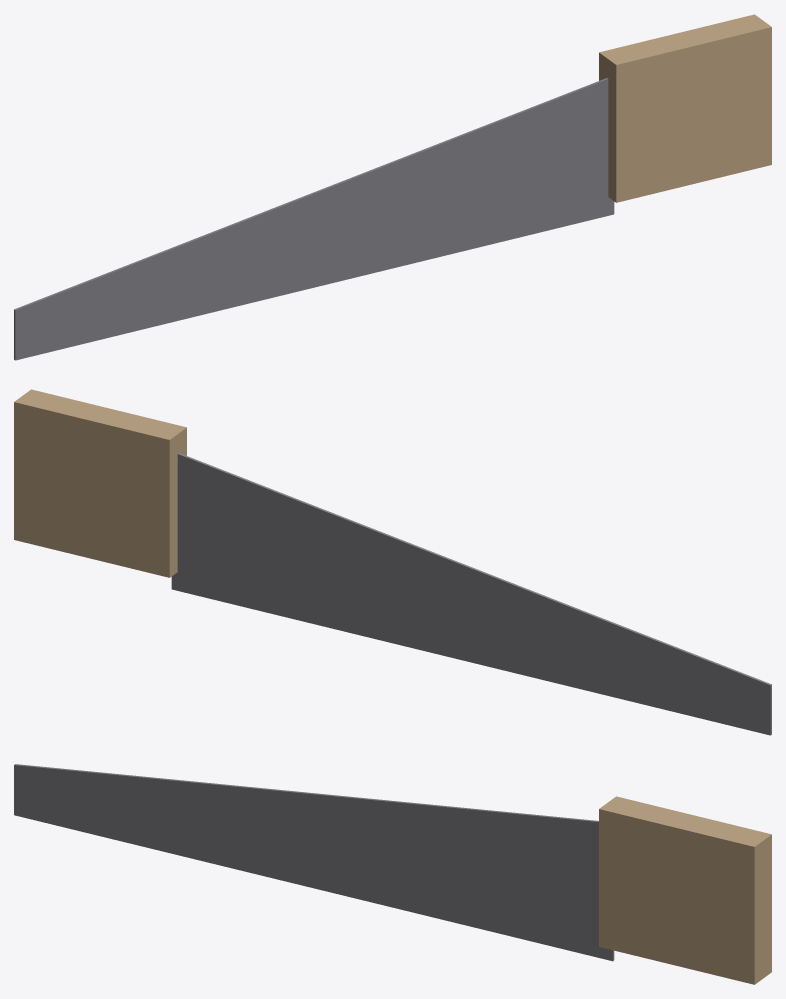
Rendered from prop-hand-saw.fbx.
The picture shows the model from 3 angles, top to bottom: view 1: azimuth 30°, elevation 25°; view 2: azimuth 150°, elevation 25°; view 3: azimuth 330°, elevation 25°; orthographic projection.
Parts seen in each view (by area): view 1: prop-hand-saw; view 2: prop-hand-saw; view 3: prop-hand-saw.
Boxes of the visible parts, x1,y1,x2,y2 form: prop-hand-saw: (14,14,771,360); prop-hand-saw: (14,389,771,735); prop-hand-saw: (14,764,771,984).
Size of the model in its own units: 62.5 by 12.5 by 2.5.
